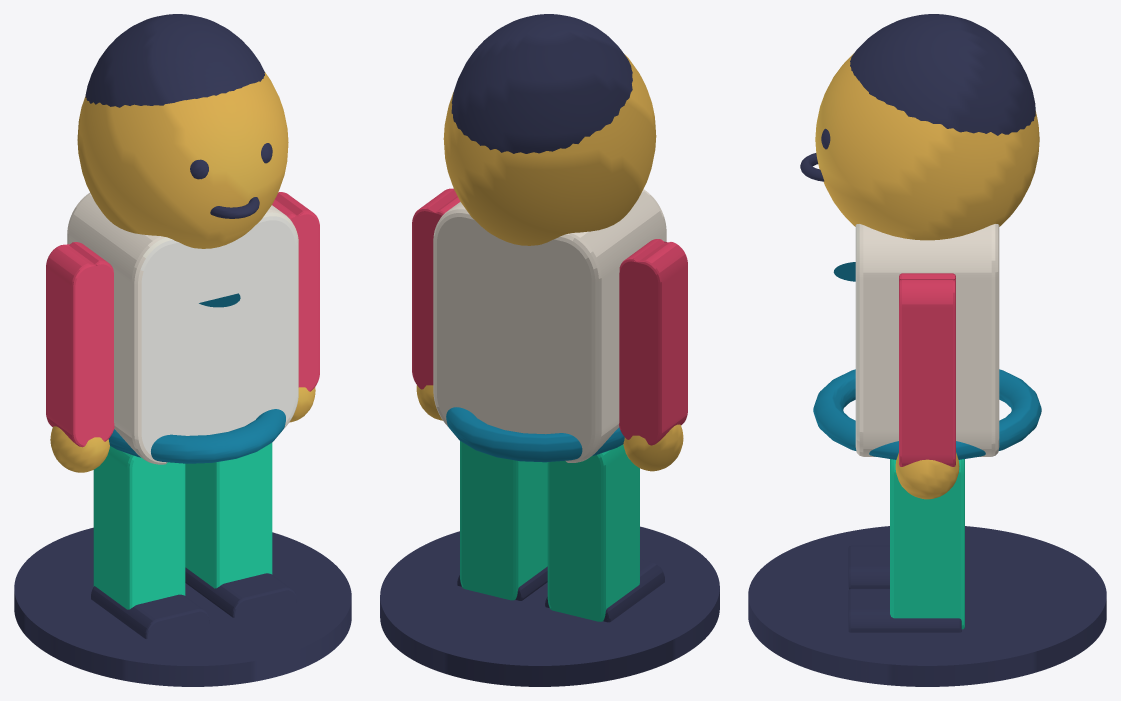
Rendered from 1092_古文观止_苏轼.glb.
3 renders of one model, left to right at view 1: azimuth 30°, elevation 25°; view 2: azimuth 150°, elevation 25°; view 3: azimuth 270°, elevation 25°, orthographic.
Parts seen in each view (by area): view 1: card_1092; view 2: card_1092; view 3: card_1092.
Boxes of the visible parts, x1,y1,x2,y2 form: card_1092: (14,14,351,686); card_1092: (380,14,719,686); card_1092: (748,14,1106,686).
Bounding box in the file's own units: 0.5108 × 1 × 0.547.
